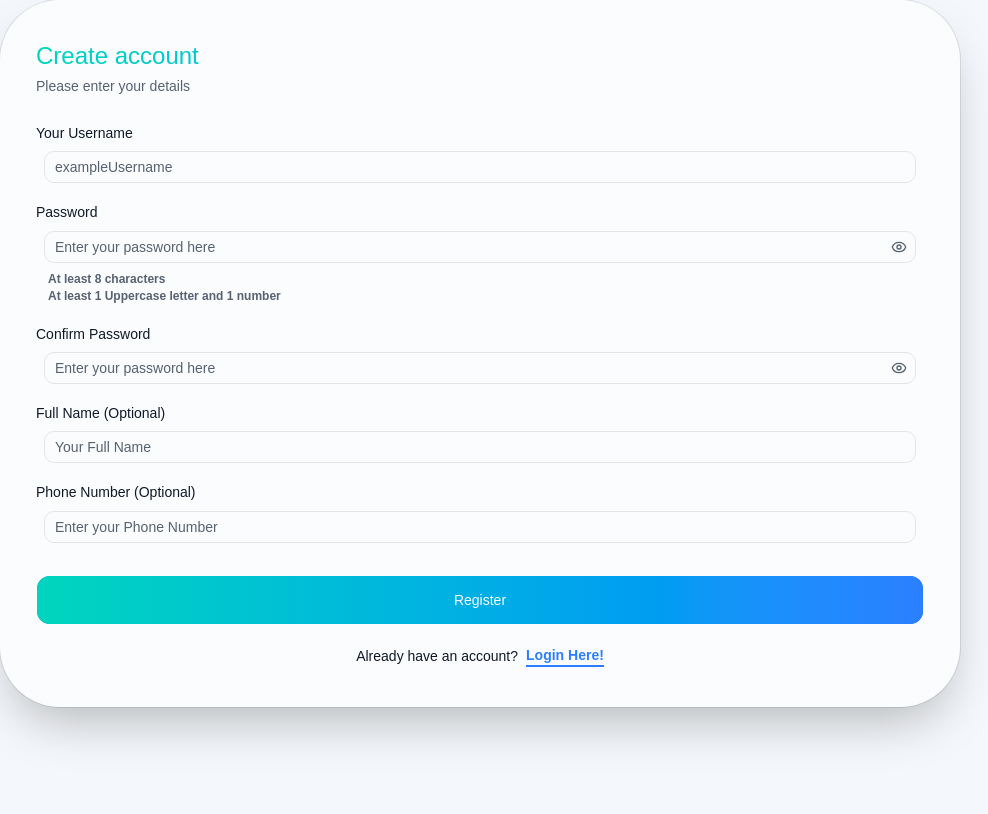
Test: Register Page › clears specific field errors on change
Click the button "Register" at (480, 600), box [36,574,924,624]
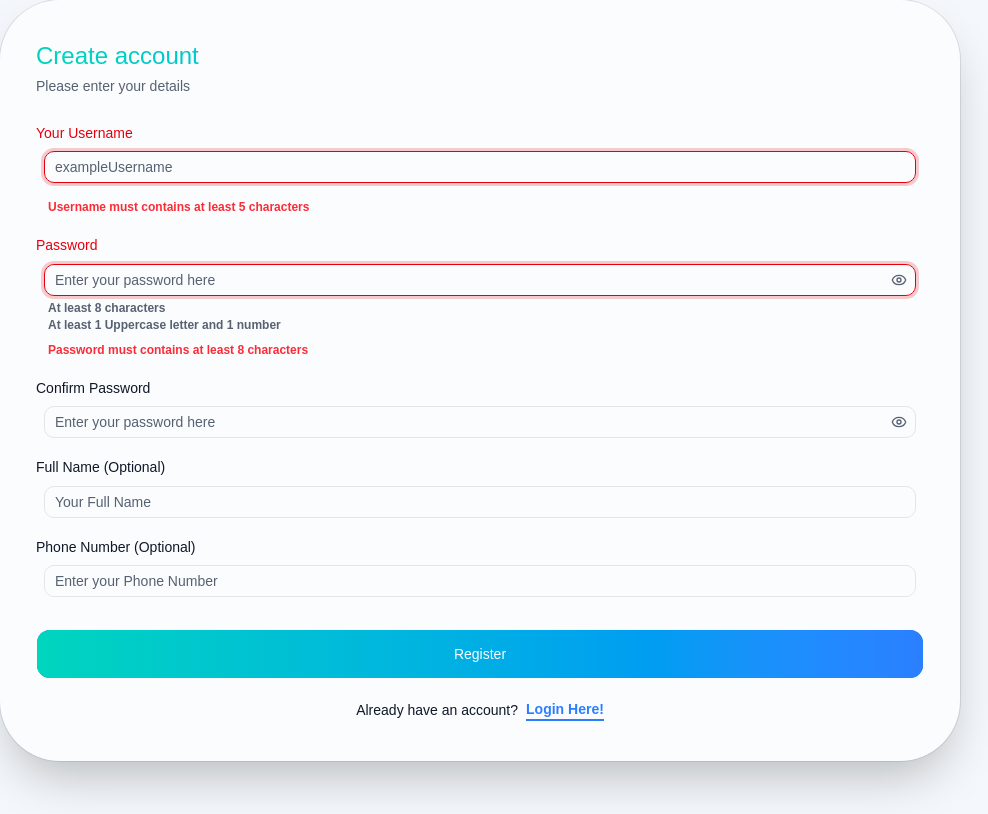
Expected: the text "Username must contains at least 5 characters" is shown, [48,200,310,214]
Nhập liệu vào trường đang lỗi
Type "newUser" into the field labelled "Your Username" at (480, 167), box [44,151,916,183]
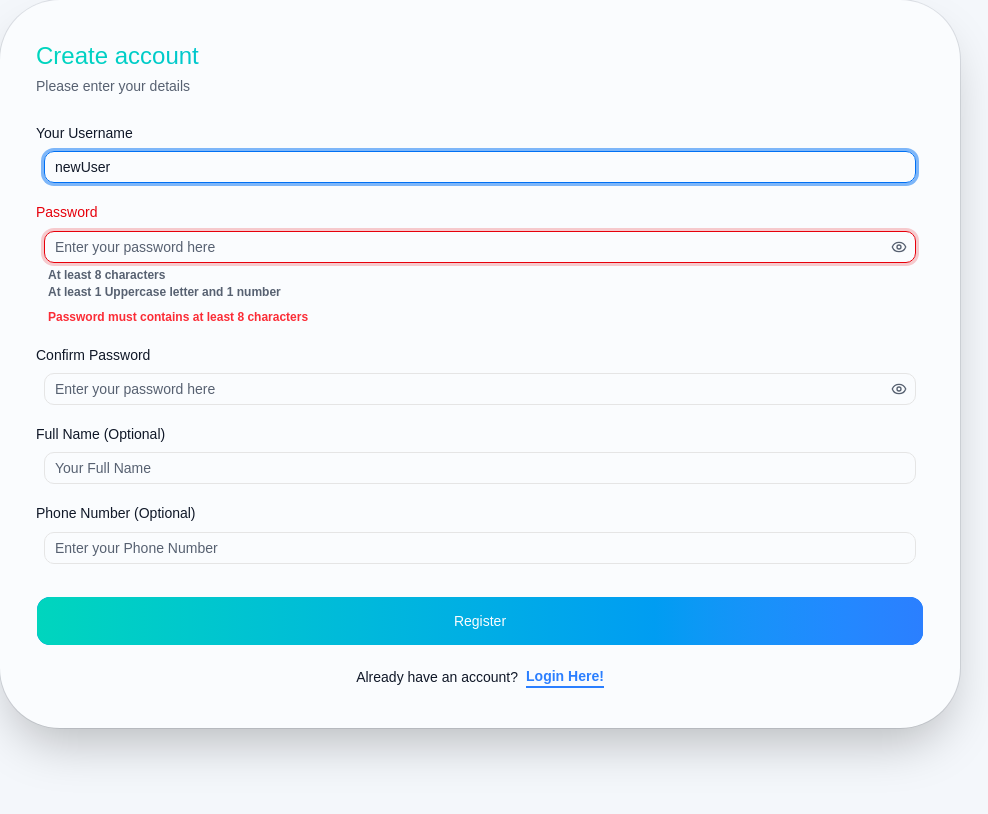
Expected: the text "Username must contains at least 5 characters" is gone
